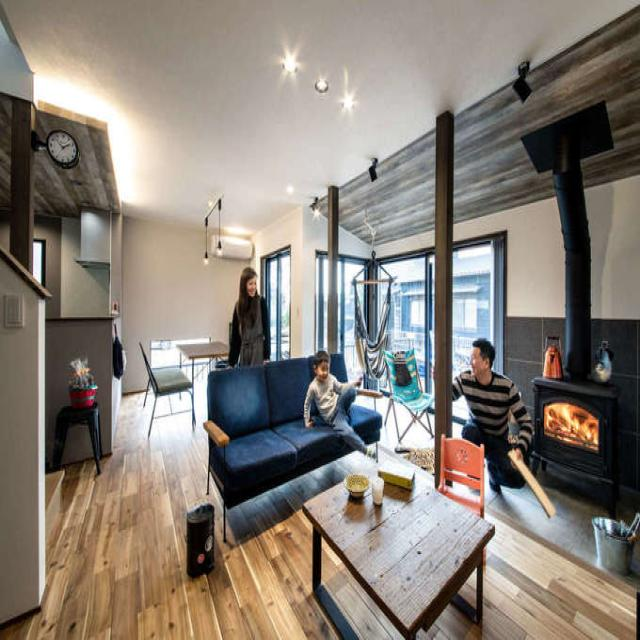vintage chair: (138, 338, 194, 430)
vintage desk: (300, 452, 495, 640)
vintage sofa: (204, 352, 385, 468)
